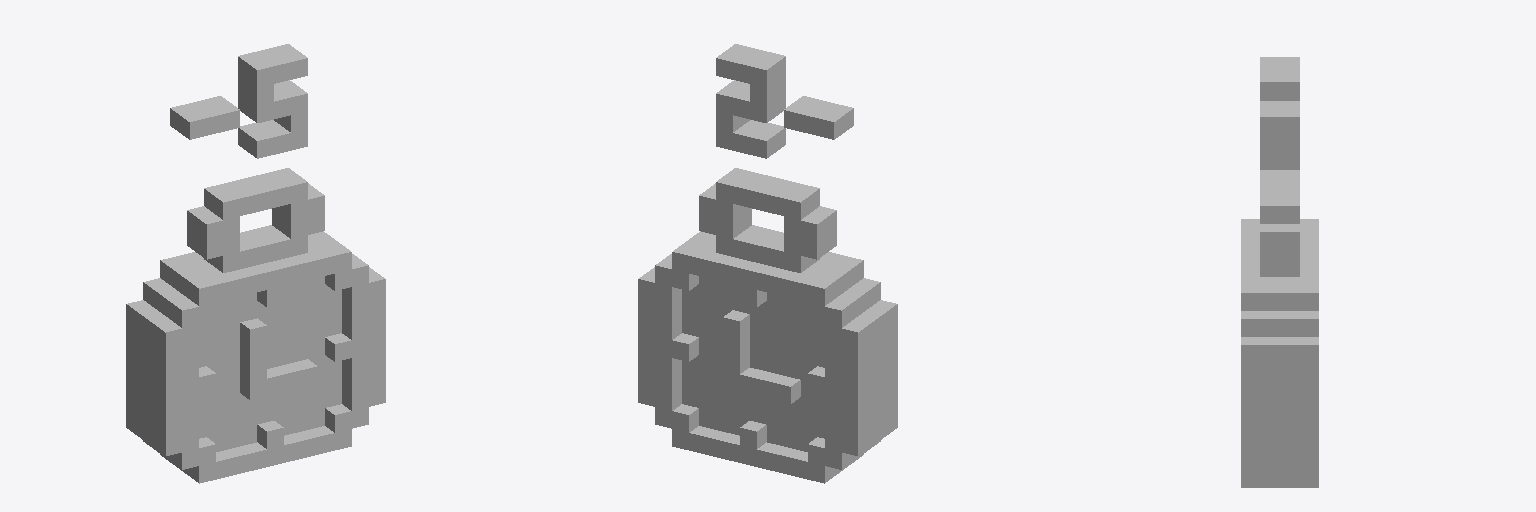
Rendered from Stopwatch -.obj.
3 views of the same model, side by side, from view 1: azimuth 30°, elevation 25°; view 2: azimuth 150°, elevation 25°; view 3: azimuth 270°, elevation 25° (orthographic).
Parts seen in each view (by area): view 1: object 1; view 2: object 1; view 3: object 1.
Part boxes in pixels (left/top/right/bottom): object 1: left=126, top=44, right=385, bottom=483; object 1: left=638, top=44, right=897, bottom=483; object 1: left=1241, top=57, right=1318, bottom=487.
Bounding box in the file's own units: 1.3 × 2.2 × 0.4.